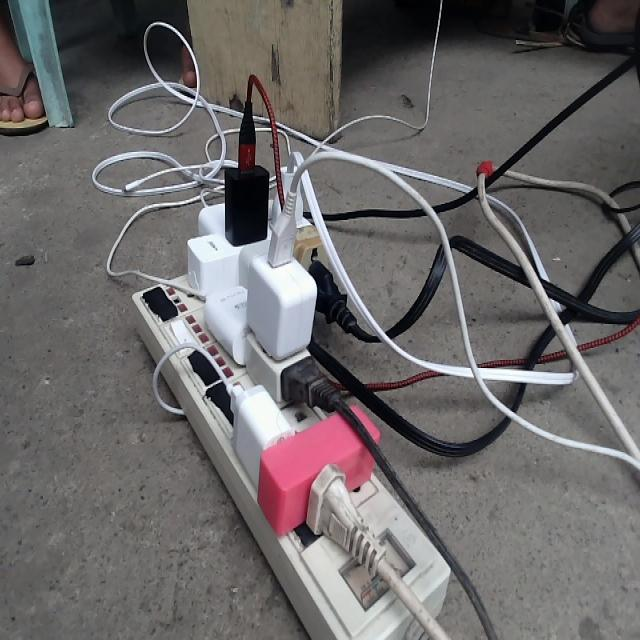-: (130, 101, 449, 639)
